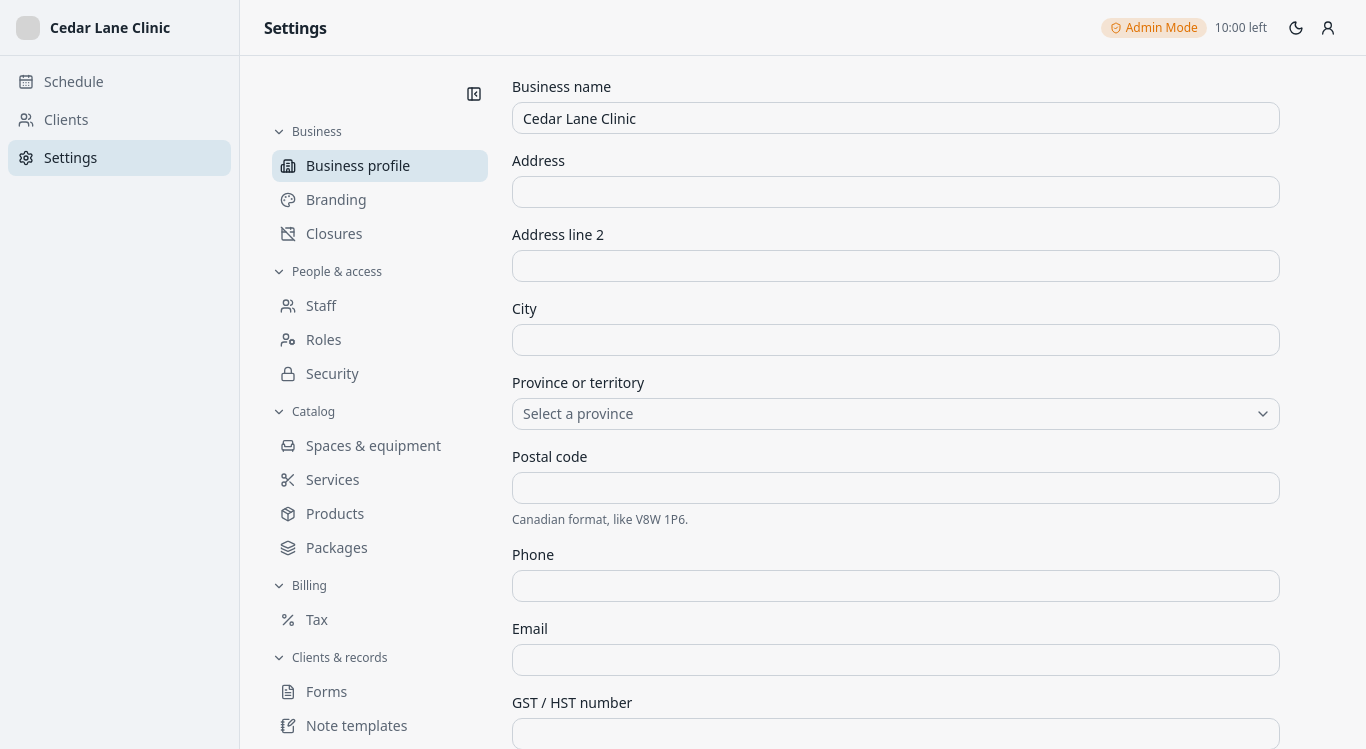
choosing Staff Mode on an admin-only page leaves it for Home
expect the button "Business profile" is shown: met, box [272,150,488,182]
What coordinates should you click on to do the following:
click the button with aria-label "Switch mode"
I would click on:
 (1184, 28)
Its box is [1090,14,1278,42].
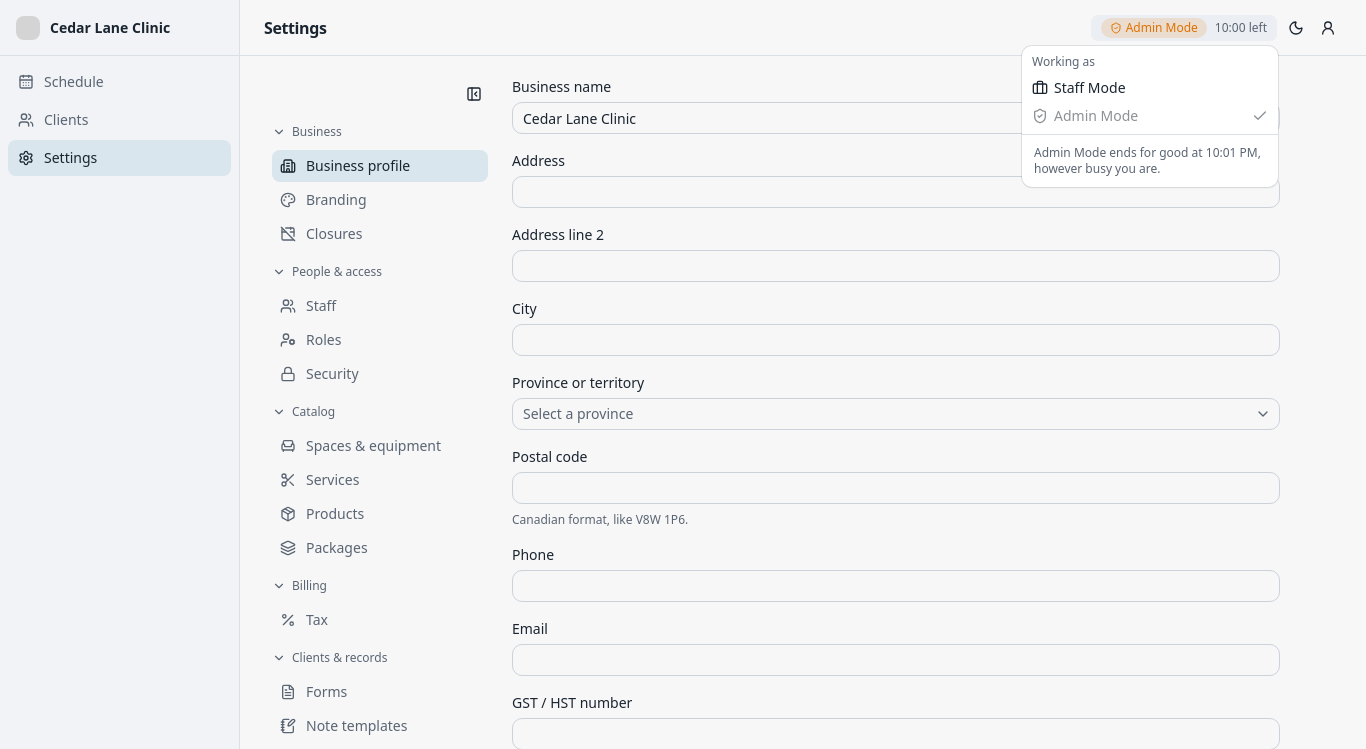
What coordinates should you click on to do the following:
click the menu item "Staff Mode"
I would click on:
 (1079, 88)
Its box is [1032,78,1126,97].
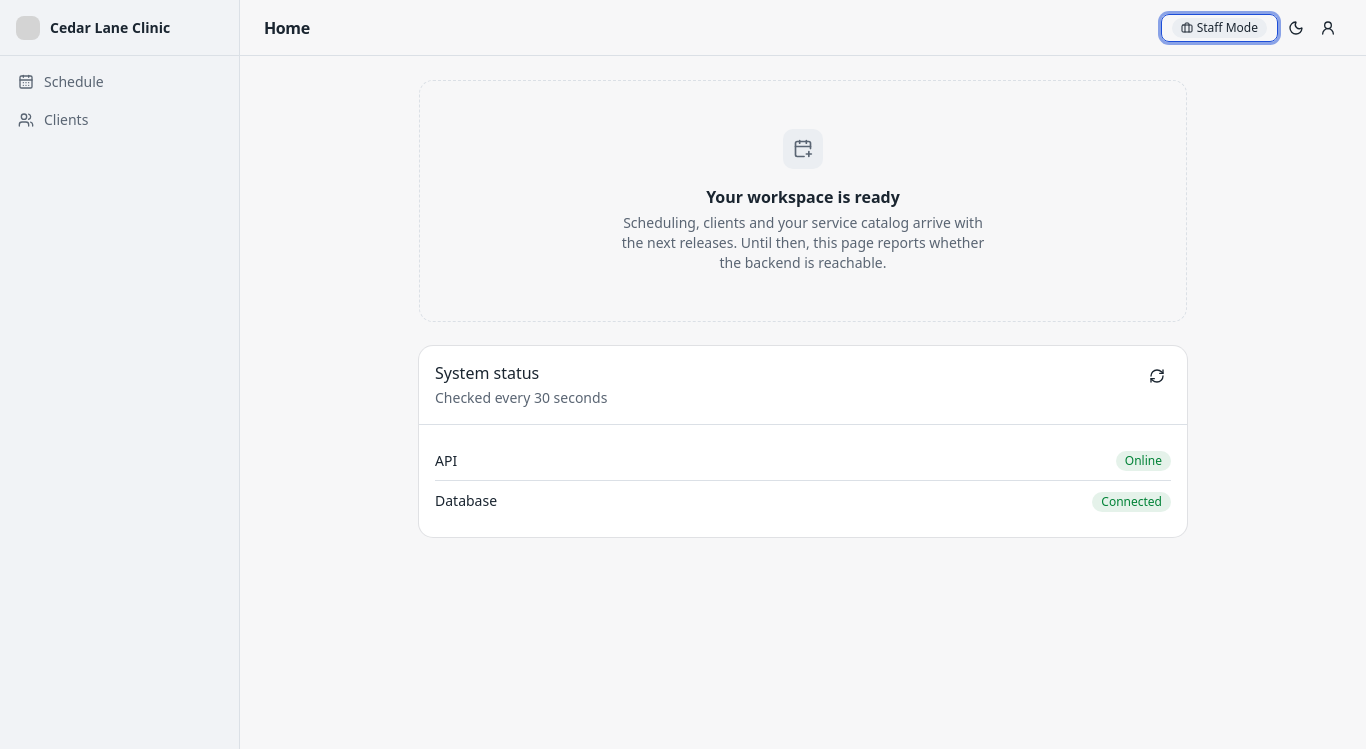
expect the button "Business profile" is gone: met
